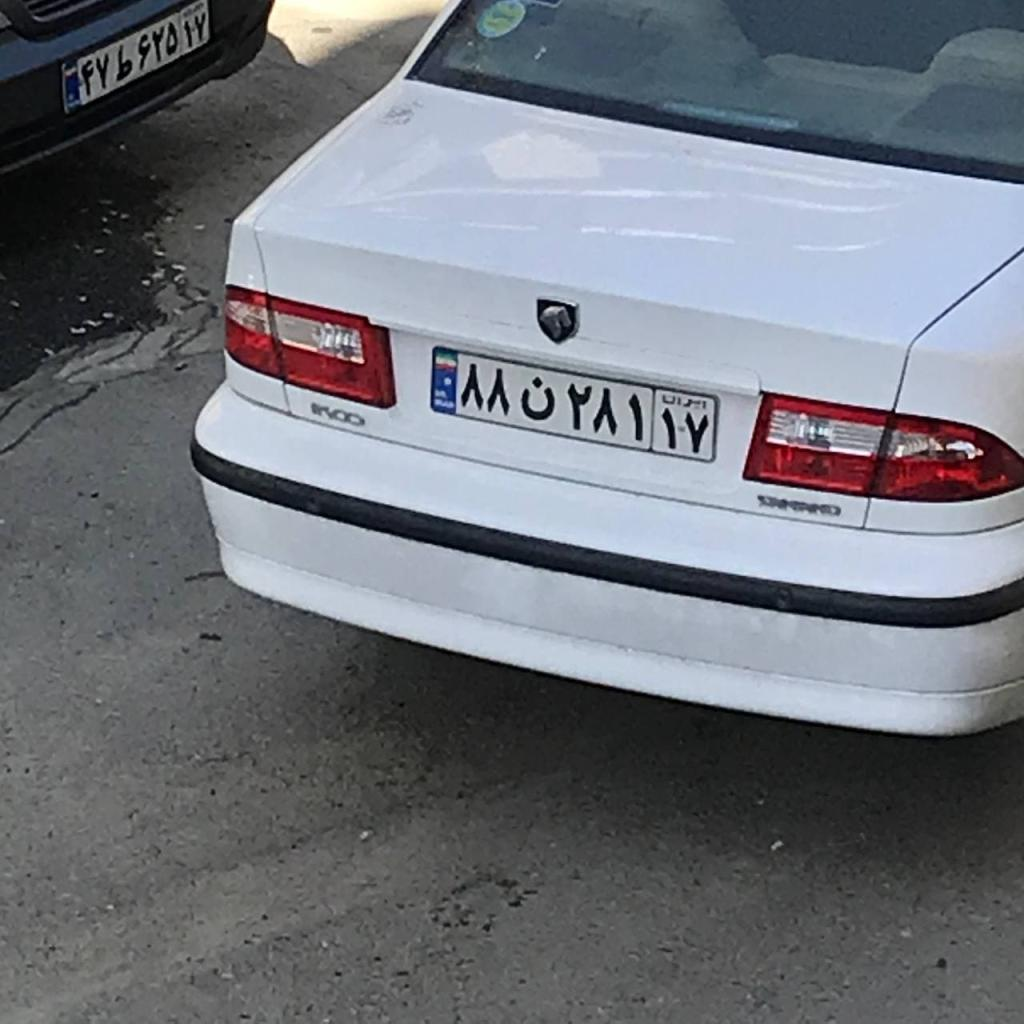Plates: (433, 349, 717, 462)
